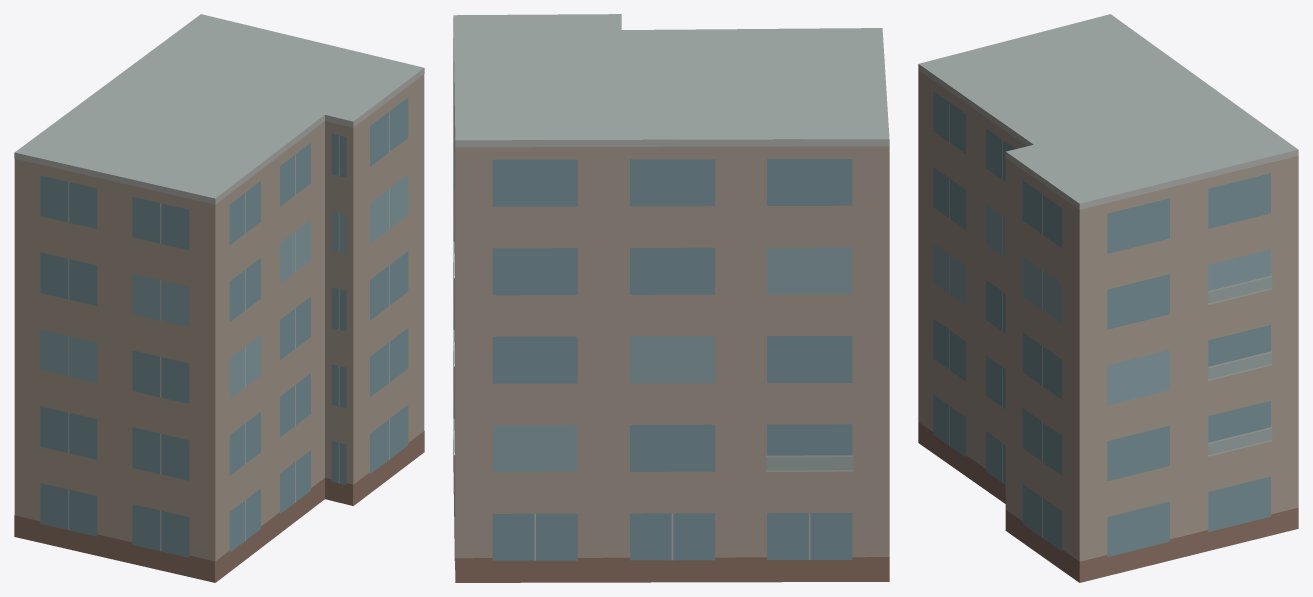
File: survey-upis-32771757.glb
The picture shows the model from 3 angles, left to right: view 1: azimuth 30°, elevation 25°; view 2: azimuth 150°, elevation 25°; view 3: azimuth 270°, elevation 25°; orthographic projection. The views are drawn at different scales.
Parts seen in each view (by area): view 1: survey-upis-32771757.tmp; view 2: survey-upis-32771757.tmp; view 3: survey-upis-32771757.tmp.
Part boxes in pixels (x1,y1,x2,y2): survey-upis-32771757.tmp: (14,14,424,582); survey-upis-32771757.tmp: (453,14,889,582); survey-upis-32771757.tmp: (918,14,1298,582).
Bounding box in the file's own units: 16.38 × 15.25 × 13.87.
